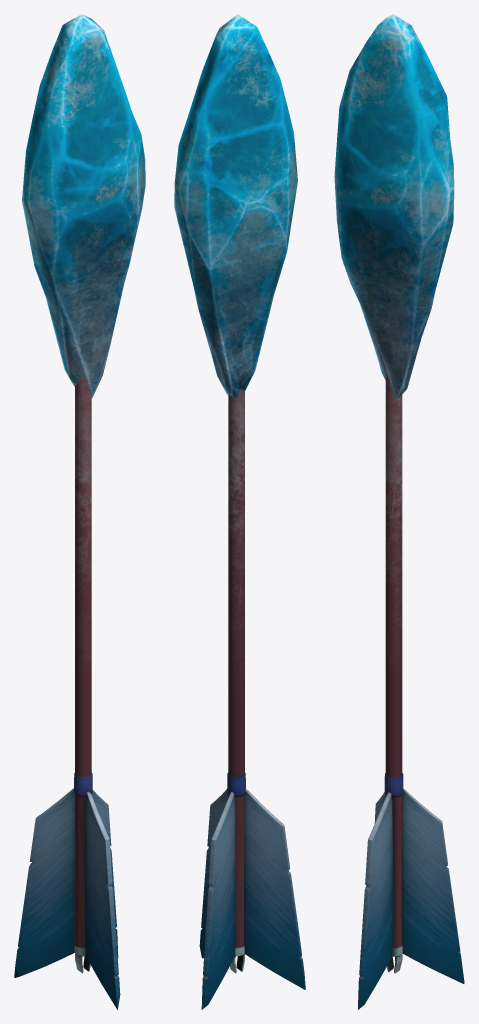
File: Ice_Arrow_New.fbx
3 views of the same model, side by side, from view 1: azimuth 30°, elevation 25°; view 2: azimuth 210°, elevation 25°; view 3: azimuth 330°, elevation 25° (orthographic).
Parts seen in each view (by area): view 1: Ice_Arrow_retopo_1:ice_lp:Group20135, Ice_Arrow_retopo_1:Arrow_wood1, Ice_Arrow_retopo_1:Feather2, Ice_Arrow_retopo_1:Feather, Ice_Arrow_retopo_1:Feather1; view 2: Ice_Arrow_retopo_1:ice_lp:Group20135, Ice_Arrow_retopo_1:Arrow_wood1, Ice_Arrow_retopo_1:Feather2, Ice_Arrow_retopo_1:Feather1, Ice_Arrow_retopo_1:Feather; view 3: Ice_Arrow_retopo_1:ice_lp:Group20135, Ice_Arrow_retopo_1:Arrow_wood1, Ice_Arrow_retopo_1:Feather1, Ice_Arrow_retopo_1:Feather.
Part boxes in pixels (x1,y1,x2,y2): Ice_Arrow_retopo_1:ice_lp:Group20135: [22, 14, 145, 398]; Ice_Arrow_retopo_1:Arrow_wood1: [74, 376, 92, 973]; Ice_Arrow_retopo_1:Feather2: [14, 788, 75, 977]; Ice_Arrow_retopo_1:Feather: [85, 792, 120, 1009]; Ice_Arrow_retopo_1:Feather1: [91, 790, 118, 957]; Ice_Arrow_retopo_1:ice_lp:Group20135: [174, 14, 297, 397]; Ice_Arrow_retopo_1:Arrow_wood1: [227, 389, 245, 973]; Ice_Arrow_retopo_1:Feather2: [244, 789, 305, 989]; Ice_Arrow_retopo_1:Feather1: [201, 792, 235, 1009]; Ice_Arrow_retopo_1:Feather: [199, 789, 228, 958]; Ice_Arrow_retopo_1:ice_lp:Group20135: [334, 14, 454, 400]; Ice_Arrow_retopo_1:Arrow_wood1: [384, 375, 403, 973]; Ice_Arrow_retopo_1:Feather1: [402, 789, 464, 983]; Ice_Arrow_retopo_1:Feather: [358, 792, 392, 1009].
Size of the model in its own units: 27.28 by 216 by 23.74.
